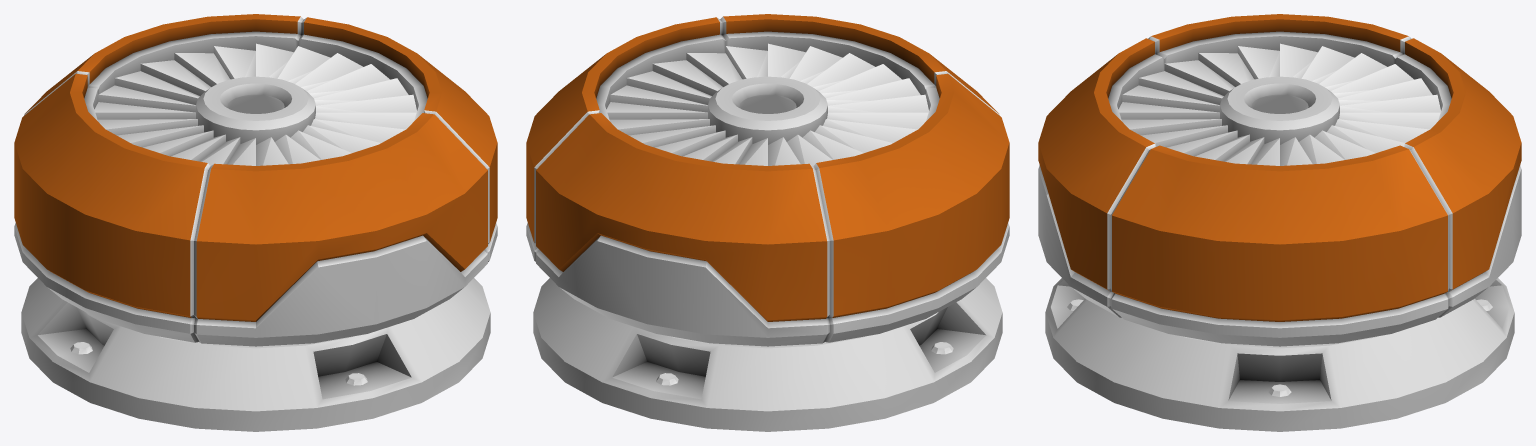
File: deco_vent.FBX
3 renders of one model, left to right at view 1: azimuth 30°, elevation 25°; view 2: azimuth 150°, elevation 25°; view 3: azimuth 270°, elevation 25°, orthographic.
Parts seen in each view (by area): view 1: deco_vent; view 2: deco_vent; view 3: deco_vent.
Part boxes in pixels (bbox=[...]): deco_vent: bbox=[14, 14, 497, 431]; deco_vent: bbox=[526, 14, 1009, 431]; deco_vent: bbox=[1038, 14, 1521, 431].
Size of the model in its own units: 1.03 by 0.5648 by 1.03.
